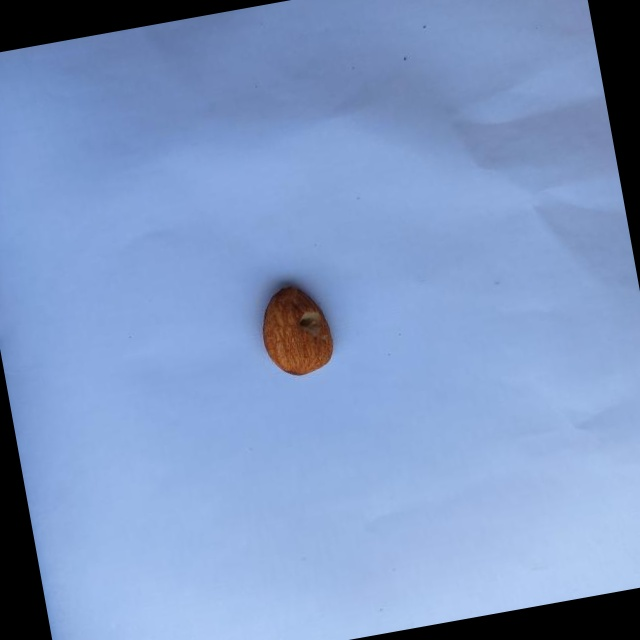grade3: (252, 275, 344, 385)
